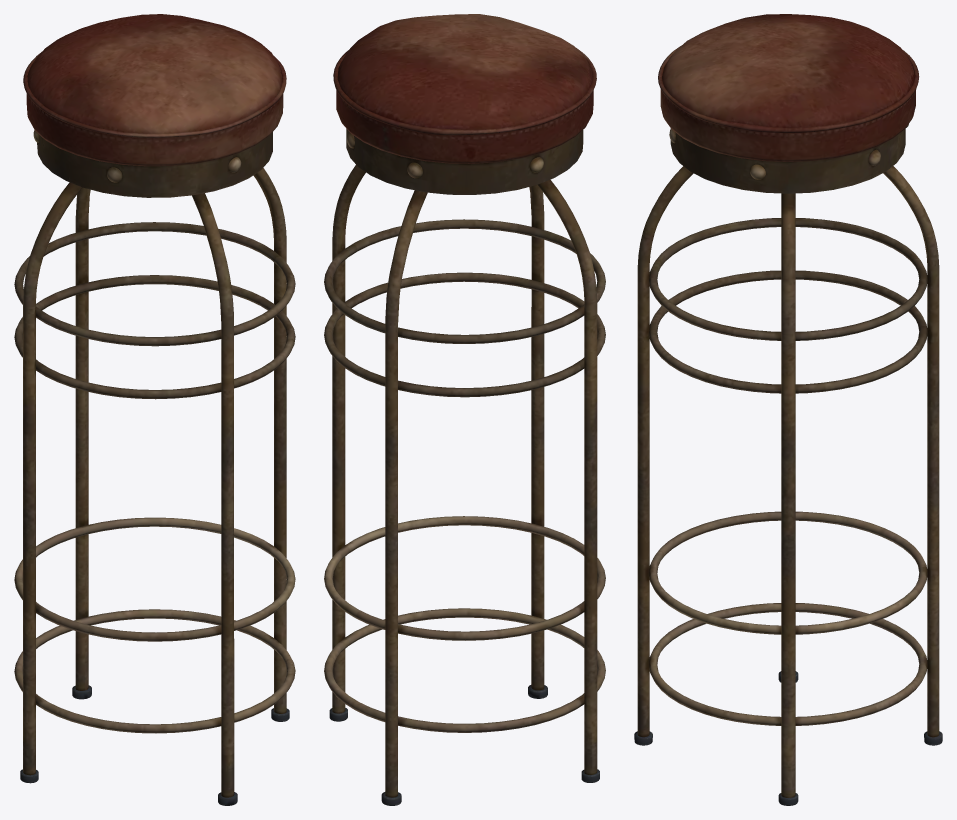
The model's file is metal_stool_01.glb.
3 views of the same model, side by side, from view 1: azimuth 30°, elevation 25°; view 2: azimuth 150°, elevation 25°; view 3: azimuth 270°, elevation 25° (orthographic).
Visible parts, largest first — view 1: metal_stool_01; view 2: metal_stool_01; view 3: metal_stool_01.
Part boxes in pixels (x1,y1,x2,y2): metal_stool_01: (14, 14, 295, 805); metal_stool_01: (324, 14, 605, 805); metal_stool_01: (634, 14, 942, 805).
Bounding box in the file's own units: 0.352 × 0.8828 × 0.3546.
Materials: 1 (1 with a texture image).
